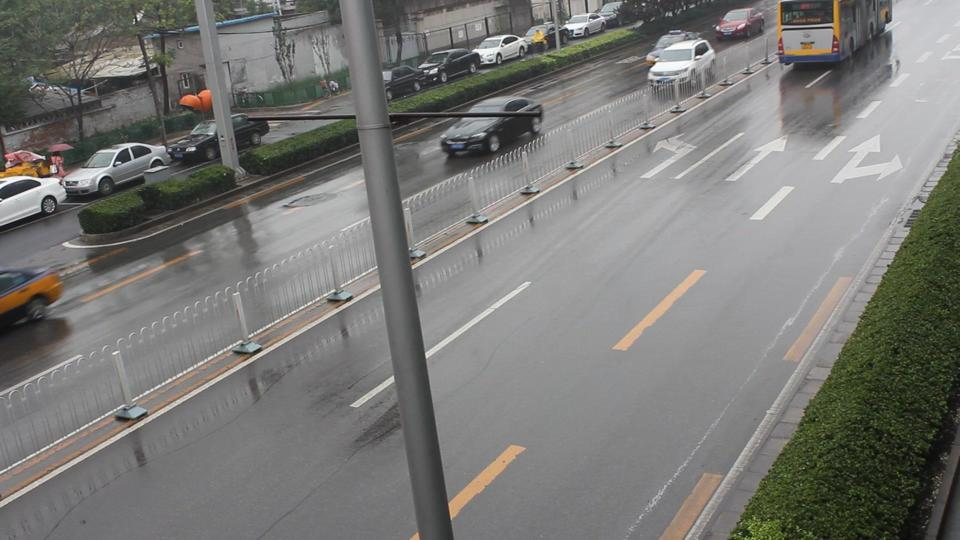Bus: (774, 1, 893, 63)
Car: (443, 93, 543, 155), (1, 257, 71, 335), (642, 38, 718, 90), (641, 26, 698, 64)
